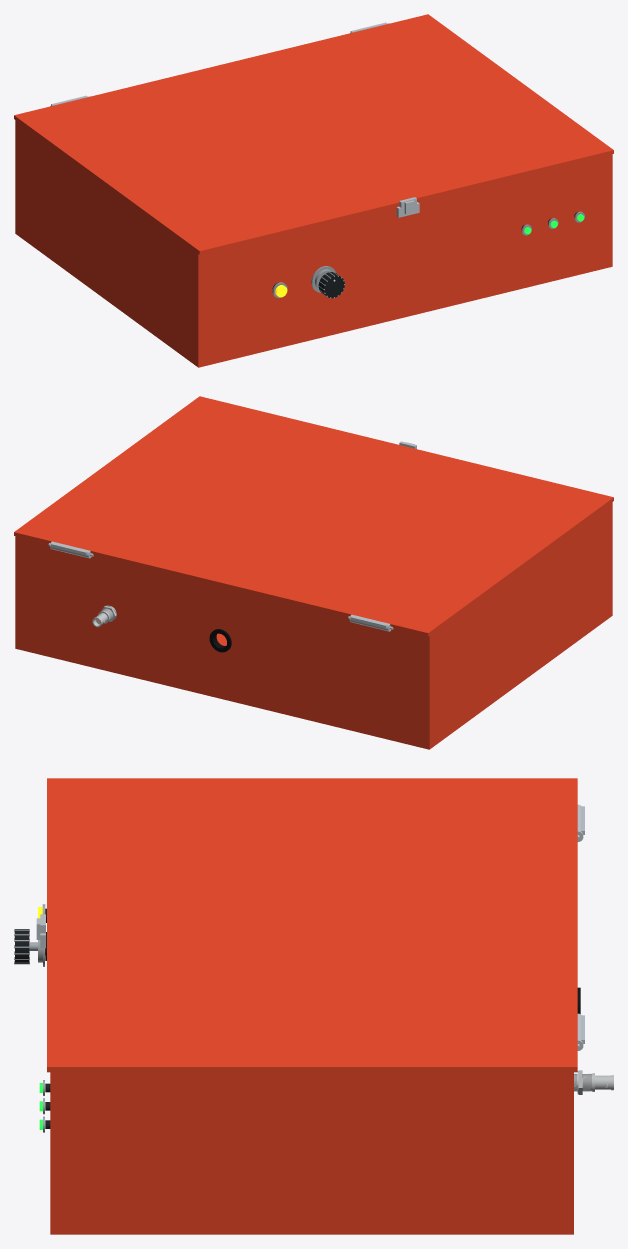
3 renders of one model, top to bottom at view 1: azimuth 30°, elevation 25°; view 2: azimuth 150°, elevation 25°; view 3: azimuth 270°, elevation 25°, orthographic. The views are drawn at different scales.
Visible parts, largest first — view 1: NichKa_Lid, Bloque 47 x 36.5 x 12.5 cm, Front_Potentiometer_Knob; view 2: NichKa_Lid, Bloque 47 x 36.5 x 12.5 cm; view 3: NichKa_Lid, Bloque 47 x 36.5 x 12.5 cm.
Boxes of the visible parts, x1,y1,x2,y2 form: NichKa_Lid: [14, 14, 613, 254]; Bloque 47 x 36.5 x 12.5 cm: [15, 119, 612, 367]; Front_Potentiometer_Knob: [318, 272, 344, 298]; NichKa_Lid: [14, 396, 613, 636]; Bloque 47 x 36.5 x 12.5 cm: [15, 502, 612, 749]; NichKa_Lid: [47, 778, 577, 1072]; Bloque 47 x 36.5 x 12.5 cm: [45, 948, 573, 1234].
Size of the model in its own units: 0.47 by 0.1293 by 0.4126.
